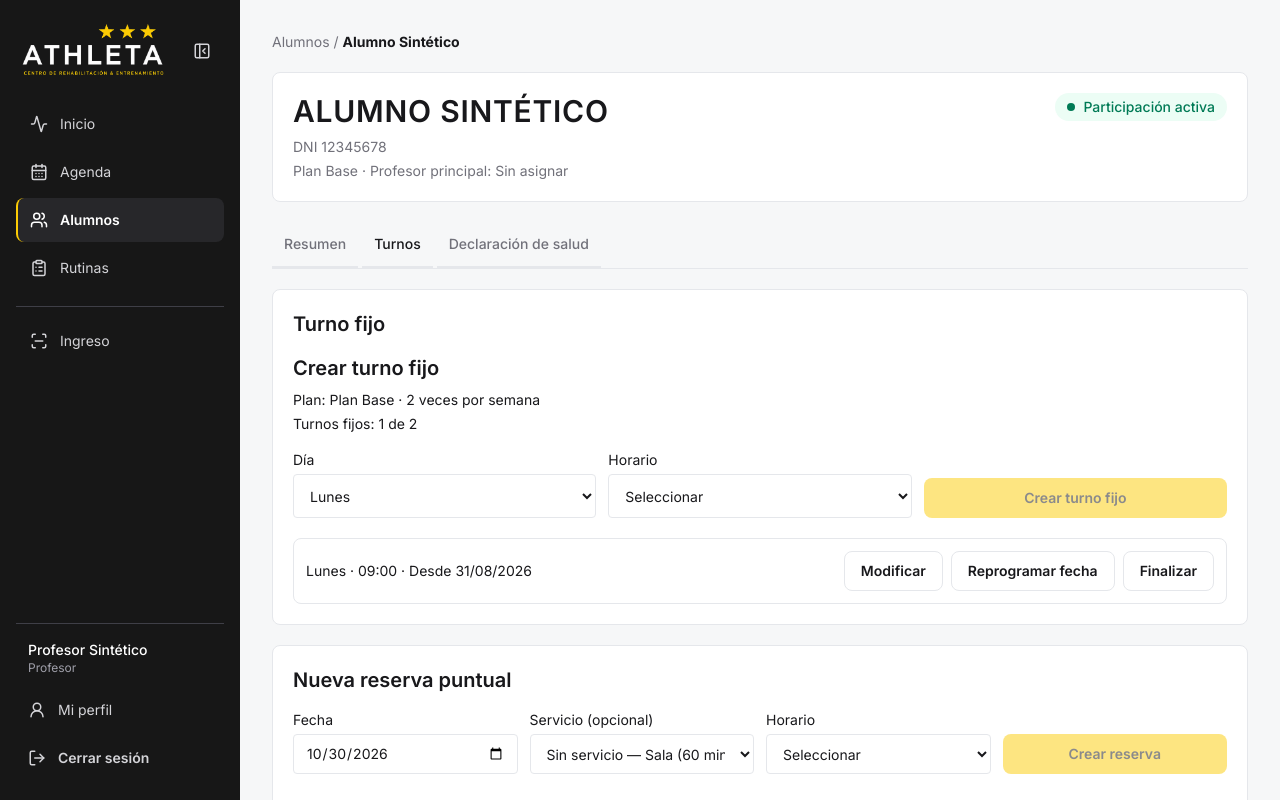
edits a historical fixed booking as general Sala regardless of its prior service (allowed=true)
Click the button "Modificar": (893, 571) x1=844 y1=551 x2=943 y2=591
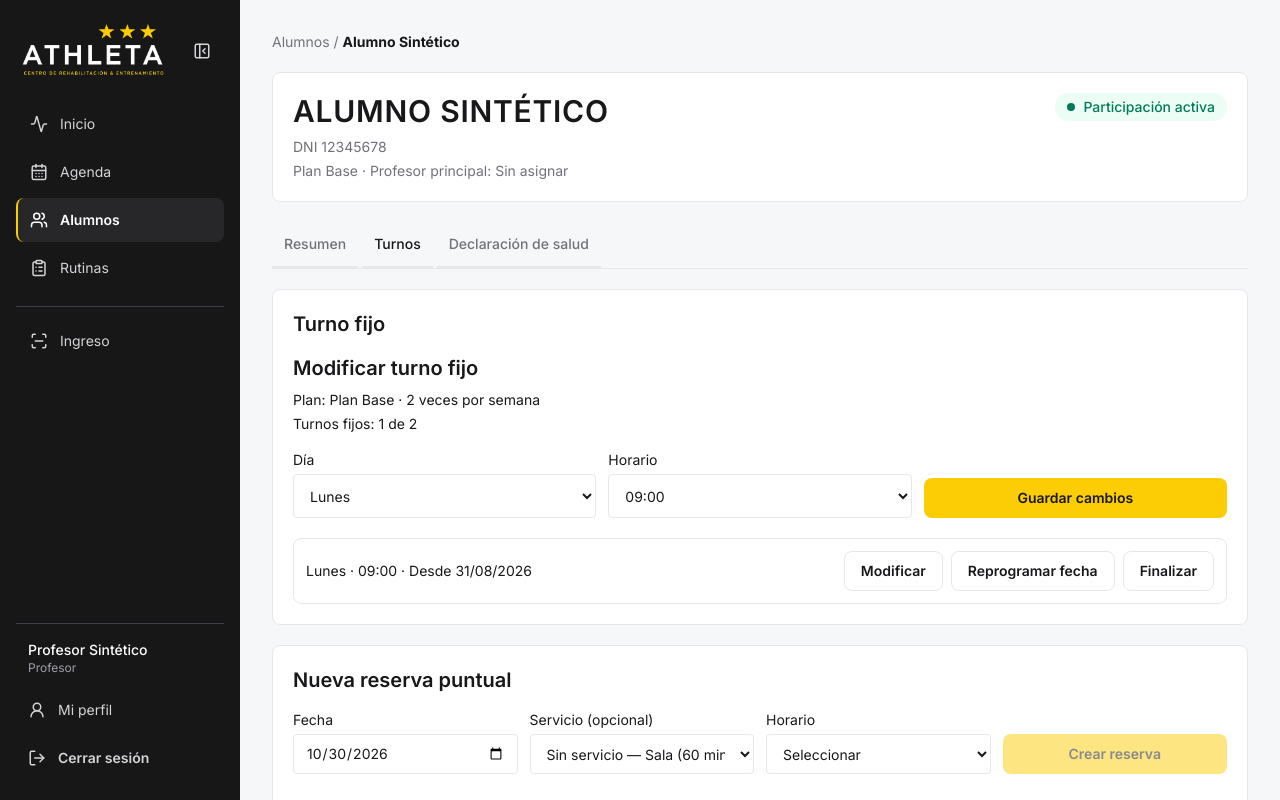
Expected: the dropdown labelled "Día" shows "Lunes", x1=293 y1=474 x2=596 y2=518
Expected: the dropdown labelled "Horario" below "Turnos fijos:" shows "09:00", x1=608 y1=474 x2=912 y2=518
Expected: the button "Guardar cambios" is enabled, x1=924 y1=478 x2=1227 y2=518
